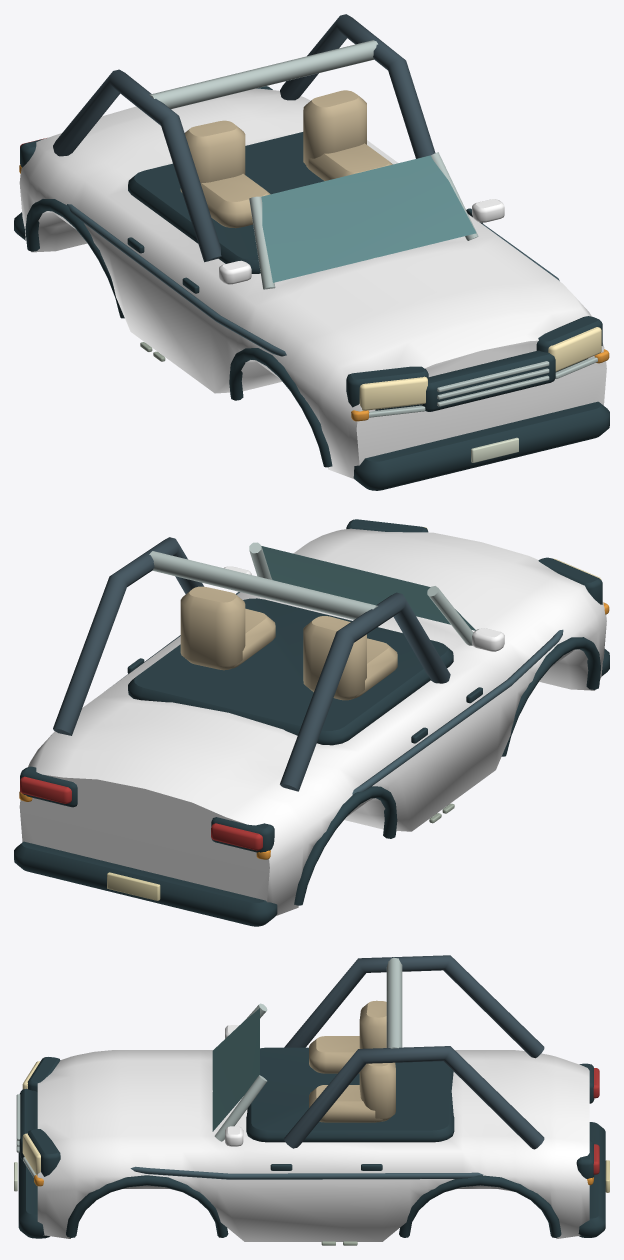
Rendered from dune_buggy.glb.
The picture shows the model from 3 angles, top to bottom: view 1: azimuth 30°, elevation 25°; view 2: azimuth 150°, elevation 25°; view 3: azimuth 270°, elevation 25°; orthographic projection. The views are drawn at different scales.
Parts seen in each view (by area): view 1: Chassis, Headlamps; view 2: Chassis, BrakeLamps; view 3: Chassis, Headlamps.
Boxes of the visible parts, bbox=[...] form: Chassis: bbox=[14, 14, 609, 490]; Headlamps: bbox=[359, 327, 601, 410]; Chassis: bbox=[14, 519, 609, 926]; BrakeLamps: bbox=[20, 776, 262, 850]; Chassis: bbox=[14, 955, 609, 1245]; Headlamps: bbox=[22, 1061, 40, 1175].
Size of the model in its own units: 1.86 by 1.37 by 3.9.
